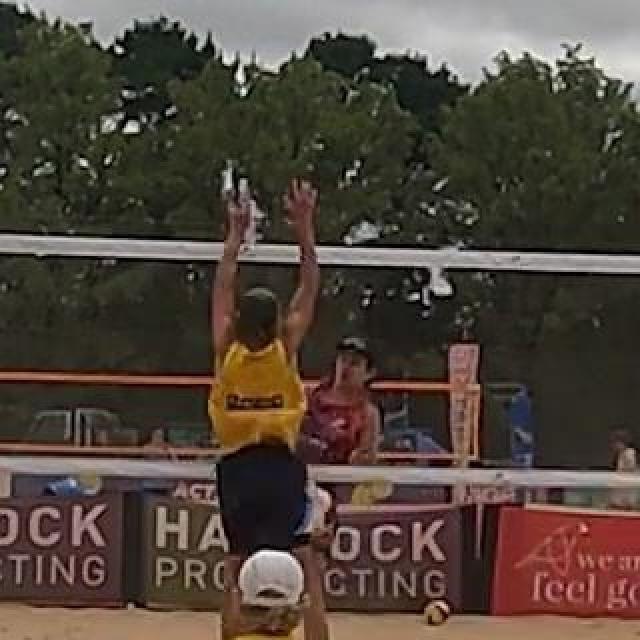volleyball: (288, 485, 334, 535), (425, 600, 449, 626)
